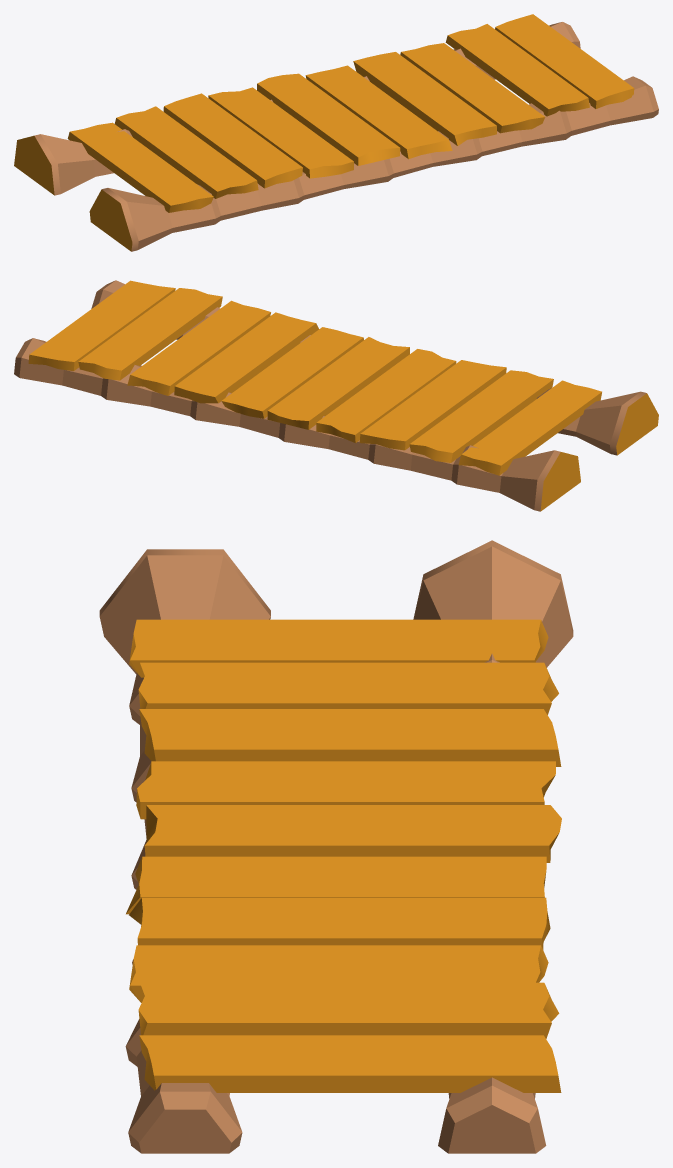
File: passage_90.fbx
3 renders of one model, top to bottom at view 1: azimuth 30°, elevation 25°; view 2: azimuth 150°, elevation 25°; view 3: azimuth 270°, elevation 25°, orthographic. The views are drawn at different scales.
Visible parts, largest first — view 1: Cylinder002; view 2: Cylinder002; view 3: Cylinder002.
Part boxes in pixels (x1=…): Cylinder002: x1=14, y1=14, x2=658, y2=251; Cylinder002: x1=14, y1=280, x2=658, y2=511; Cylinder002: x1=99, y1=540, x2=573, y2=1153.
Size of the model in its own units: 194 by 15.59 by 74.09.
